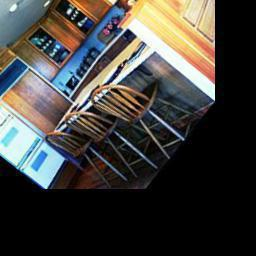Electrodomestico: (0, 106, 68, 186)
